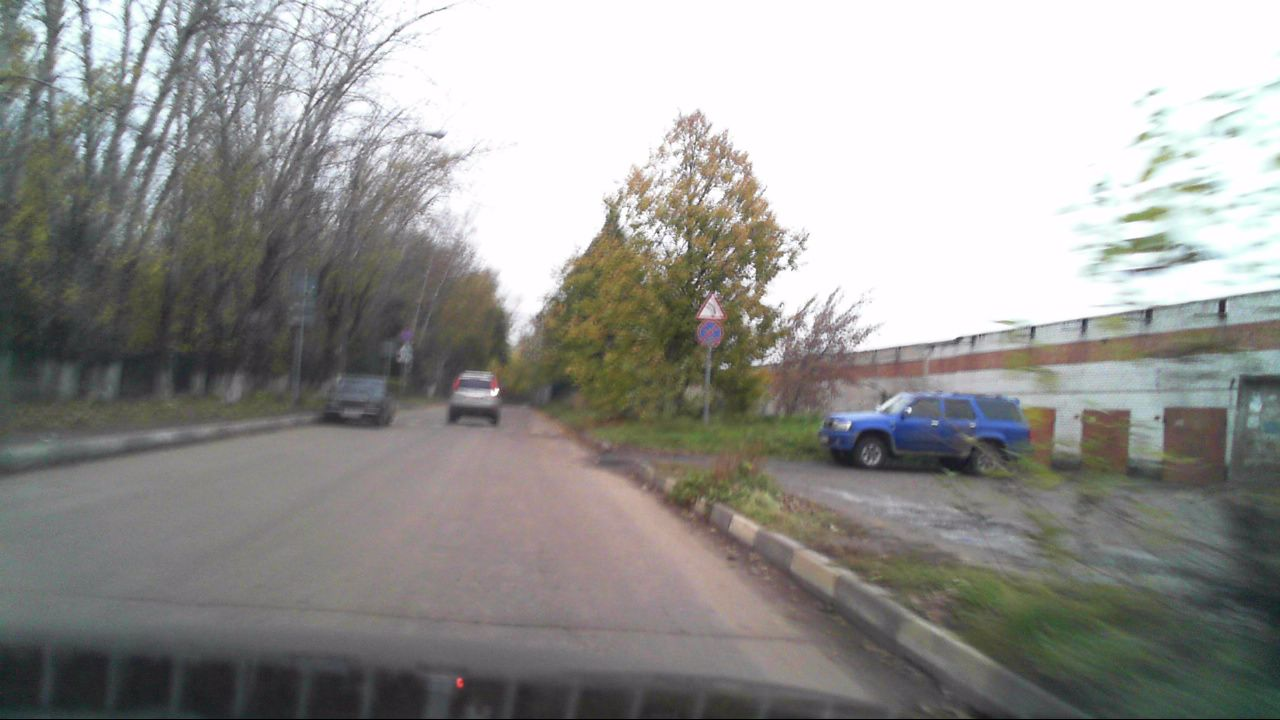No Parking: (695, 321, 719, 343)
